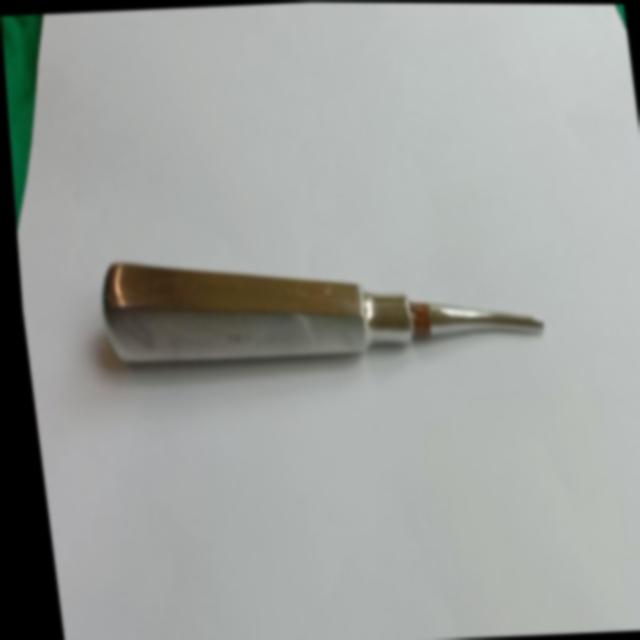Coupland1: (79, 224, 546, 384)
